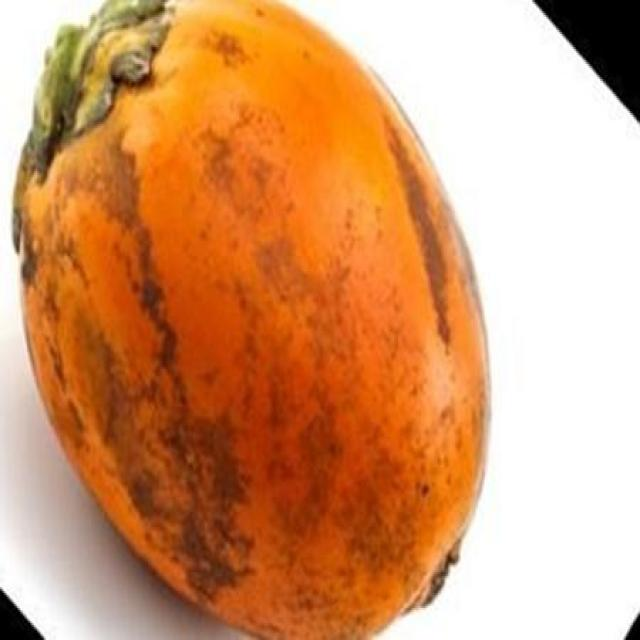good: (11, 0, 492, 638)
